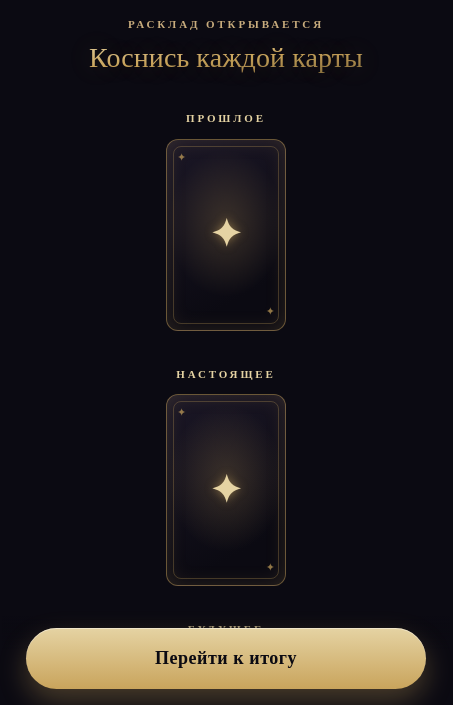
Scenario: tapping the first card flips it and reveals «Раскрыть все» (READ-08/D-09)
The width and height of the screenshot is (453, 705).
Step 1. Click the button named "Открыть карту" → (226, 235), box [166,139,286,331]
(page scrolled)
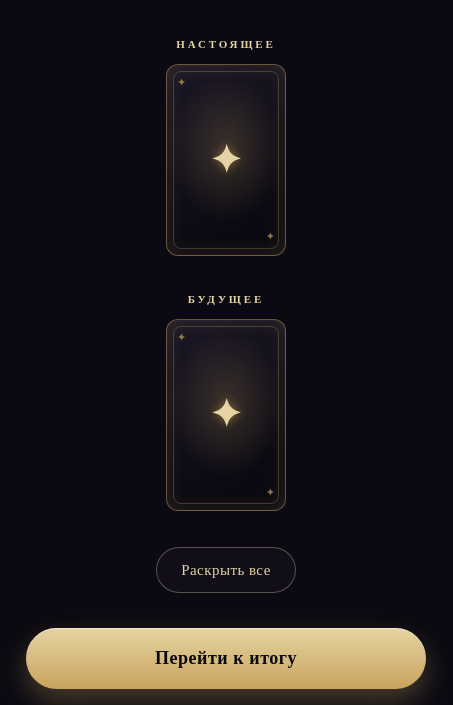
Check: the button "Раскрыть все" is shown, box [156,547,296,593]
